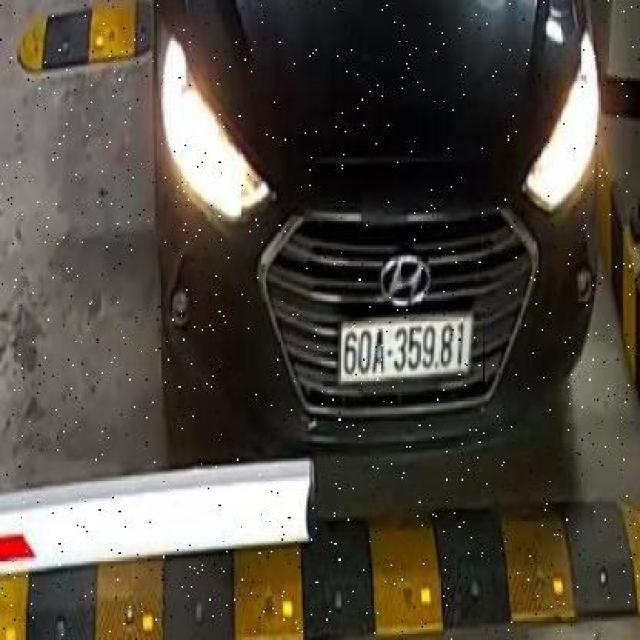number_plate: (332, 309, 485, 393)
